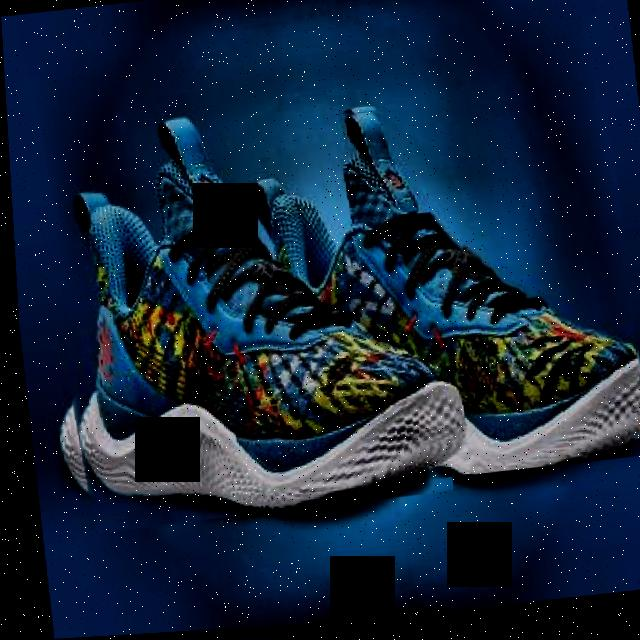shoe: (23, 106, 449, 537), (228, 85, 640, 501)
